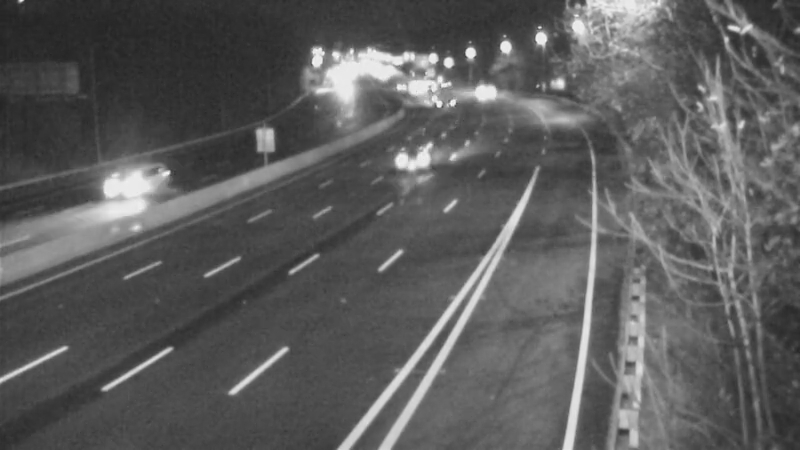vehicle: (385, 118, 465, 198), (87, 144, 167, 224), (460, 67, 510, 117), (418, 68, 468, 118)
